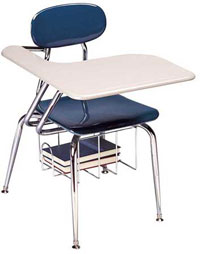desk: (2, 1, 199, 251)
